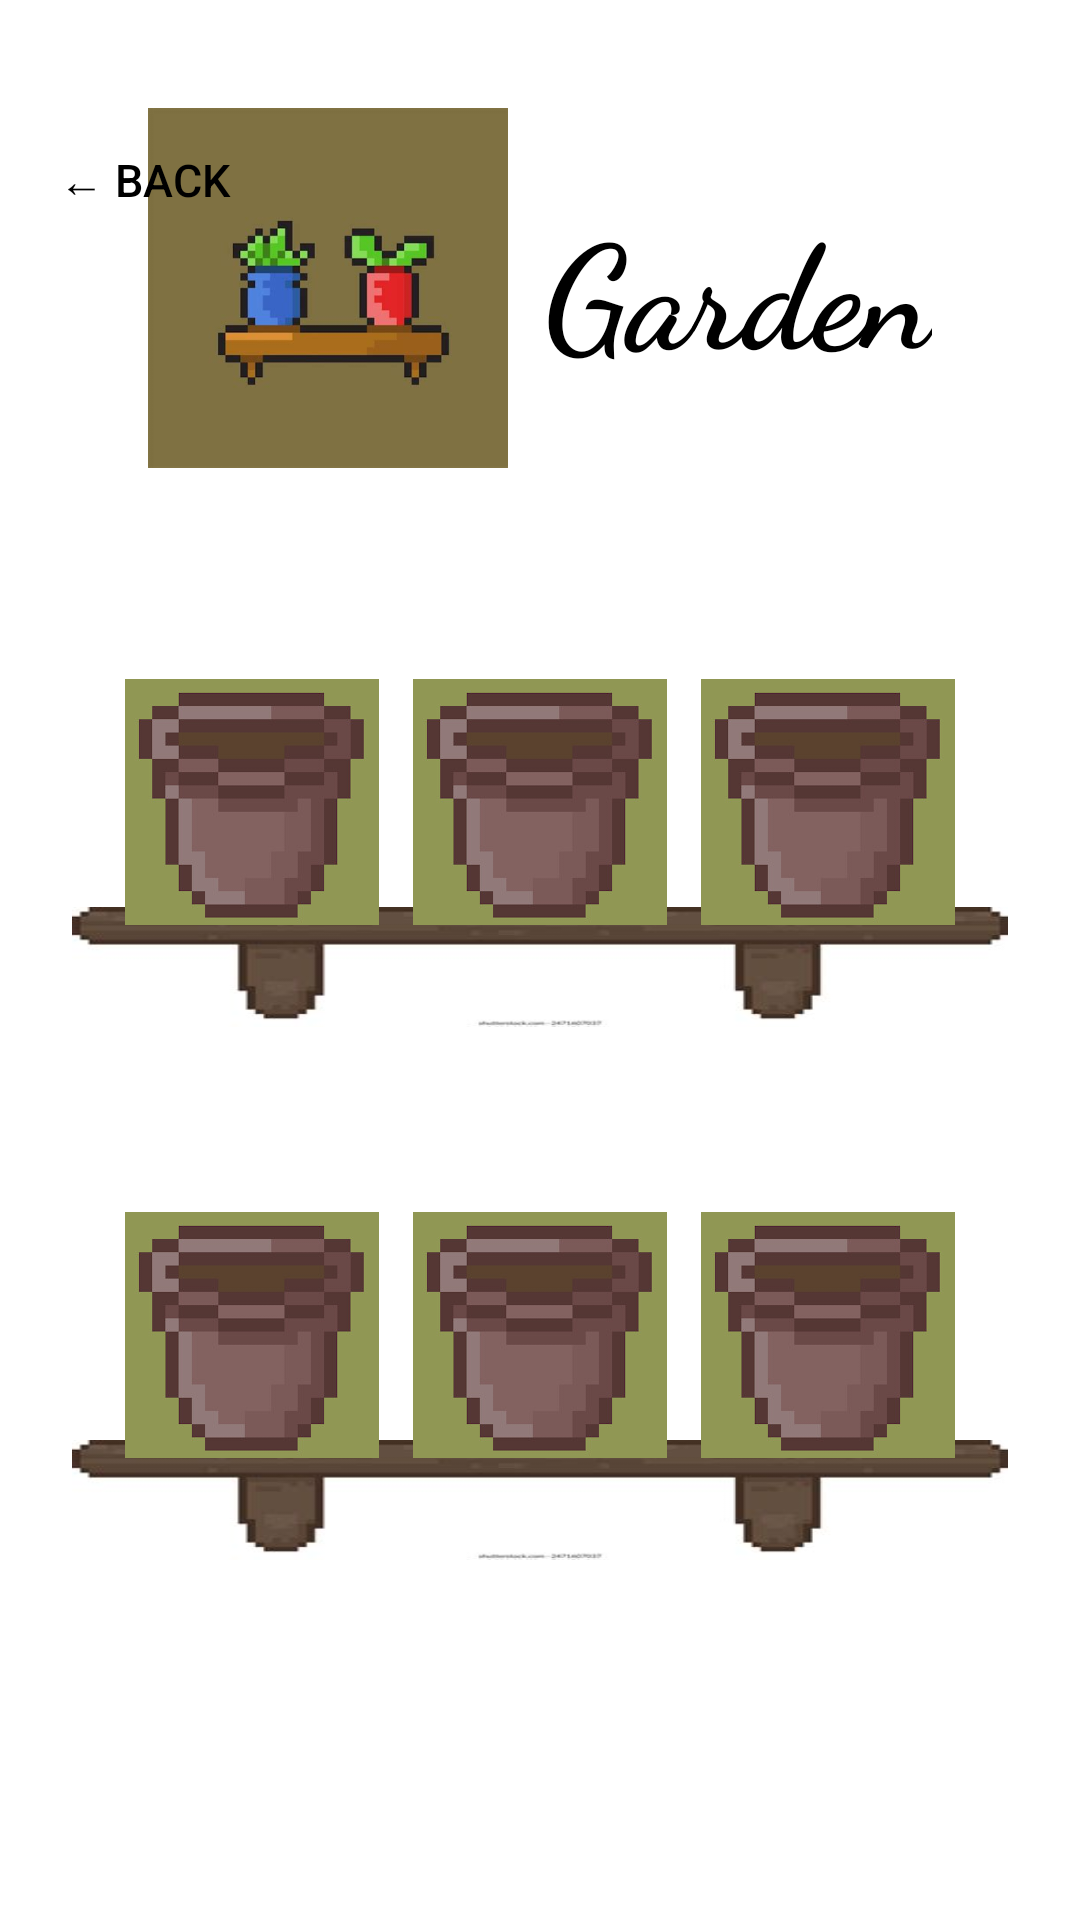

Where icons sit on this 1080x1920 app screen, as box=[x1, y1, x2, y2]:
pot empty: box=[108, 679, 396, 937], box=[396, 679, 684, 937], box=[684, 679, 972, 937], box=[108, 1212, 396, 1470], box=[396, 1212, 684, 1470], box=[684, 1212, 972, 1470]
